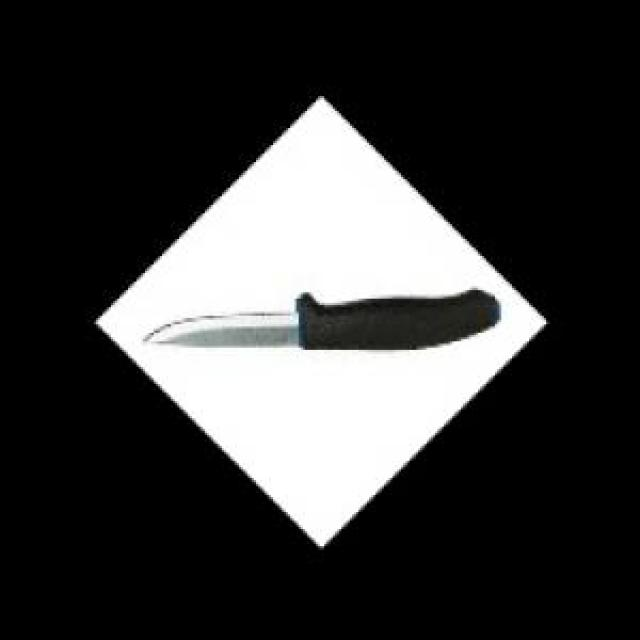knife: (137, 282, 513, 356)
